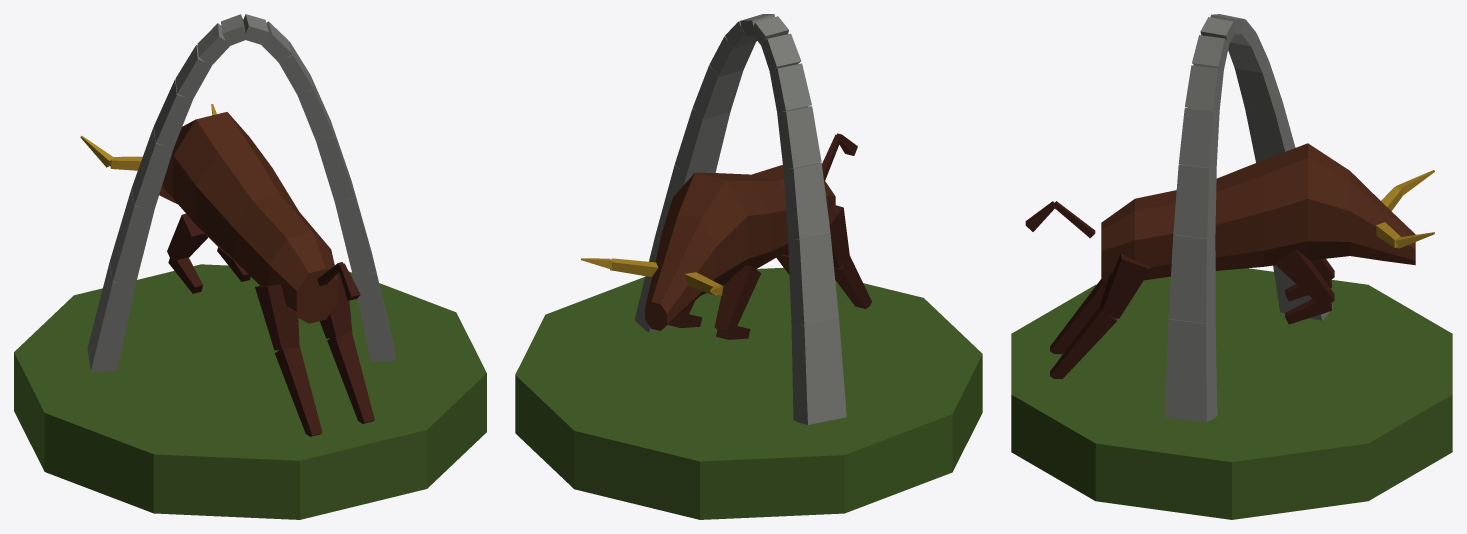
File: bull.glb
The picture shows the model from 3 angles, left to right: view 1: azimuth 30°, elevation 25°; view 2: azimuth 150°, elevation 25°; view 3: azimuth 270°, elevation 25°; orthographic projection. The views are drawn at different scales.
Parts seen in each view (by area): view 1: chunk_0_0; view 2: chunk_0_0; view 3: chunk_0_0.
Boxes of the visible parts, left/top/right/bottom form: chunk_0_0: left=14, top=14, right=486, bottom=519; chunk_0_0: left=515, top=14, right=982, bottom=519; chunk_0_0: left=1011, top=14, right=1452, bottom=519.
Bounding box in the file's own units: 22 × 20.84 × 20.92.
